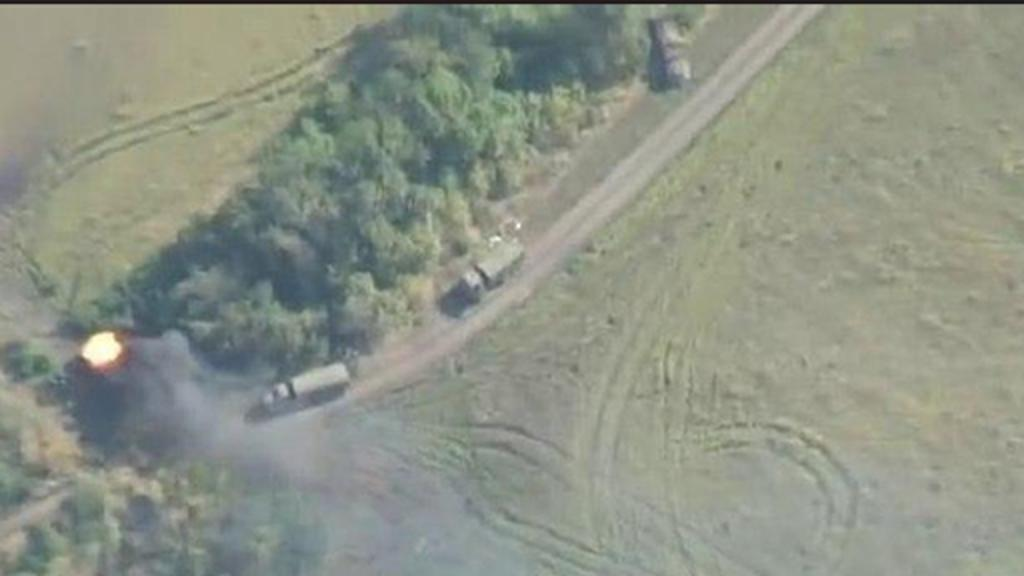TRUCK: (254, 352, 356, 426), (454, 228, 536, 310), (646, 10, 696, 96)
